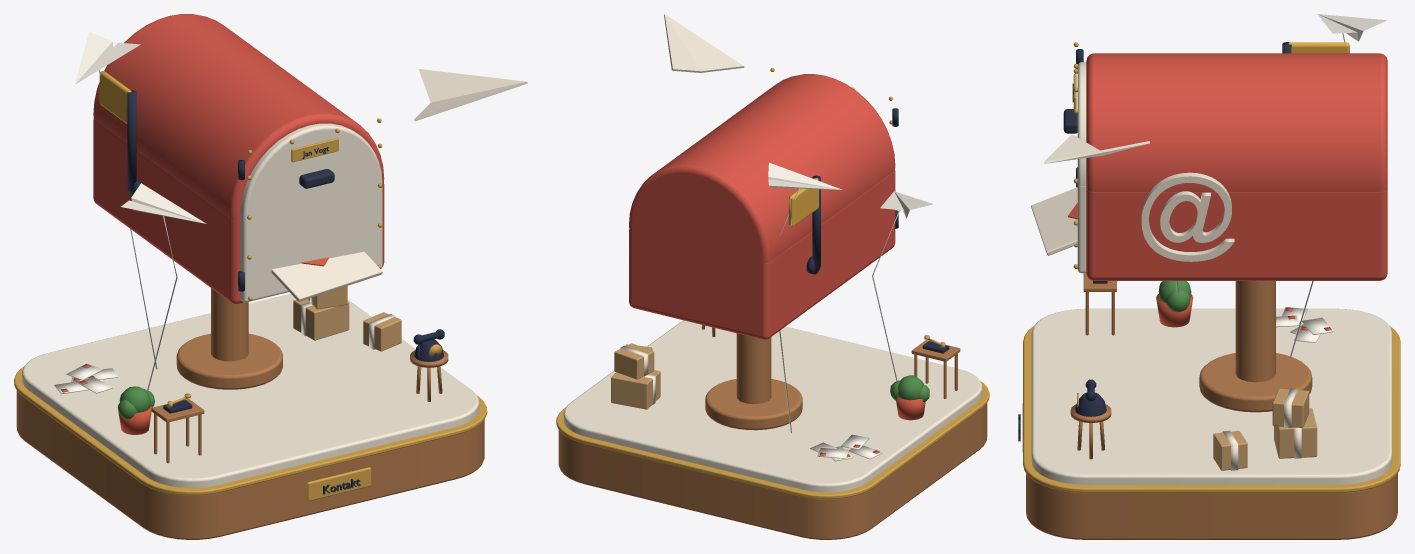
File: contact.glb
The picture shows the model from 3 angles, left to right: view 1: azimuth 30°, elevation 25°; view 2: azimuth 150°, elevation 25°; view 3: azimuth 270°, elevation 25°; orthographic projection. The views are drawn at different scales.
Parts seen in each view (by area): view 1: Contact_Deck, Contact_Box, Contact, Contact_Door, Contact_Post, Contact_Trim, Contact_Letter, Contact_Plane, Contact_XParcel0, Contact_XPlane1, Contact_XPlane0, Contact_Plaque (+10 smaller); view 2: Contact_Box, Contact_Deck, Contact, Contact_Post, Contact_Trim, Contact_Plane, Contact_XParcel0, Contact_XParcel1, Contact_XPlane1, Contact_XLetters, Contact_Table, Contact_FlagSign (+4 smaller); view 3: Contact_Box, Contact_Deck, Contact, Contact_Post, Contact_Trim, Contact_At, Contact_Letter, Contact_Door, Contact_XParcel0, Contact_Plane, Contact_XParcel1, Contact_XLetters (+8 smaller).
Boxes of the visible parts, x1=… form: Contact_Deck: x1=22, y1=294, x2=479, y2=487; Contact_Box: x1=93, y1=14, x2=384, y2=303; Contact: x1=16, y1=390, x2=484, y2=539; Contact_Door: x1=240, y1=123, x2=382, y2=302; Contact_Post: x1=176, y1=288, x2=282, y2=389; Contact_Trim: x1=14, y1=367, x2=487, y2=495; Contact_Letter: x1=271, y1=251, x2=382, y2=301; Contact_Plane: x1=414, y1=69, x2=527, y2=121; Contact_XParcel0: x1=293, y1=299, x2=349, y2=340; Contact_XPlane1: x1=74, y1=32, x2=140, y2=84; Contact_XPlane0: x1=121, y1=183, x2=206, y2=223; Contact_Plaque: x1=307, y1=467, x2=371, y2=501; Contact_Box: x1=629, y1=74, x2=895, y2=339; Contact_Deck: x1=563, y1=320, x2=982, y2=492; Contact: x1=558, y1=403, x2=987, y2=539; Contact_Post: x1=705, y1=333, x2=802, y2=430; Contact_Trim: x1=556, y1=381, x2=989, y2=499; Contact_Plane: x1=664, y1=14, x2=744, y2=72; Contact_XParcel0: x1=611, y1=370, x2=660, y2=409; Contact_XParcel1: x1=614, y1=343, x2=654, y2=379; Contact_XPlane1: x1=768, y1=162, x2=842, y2=189; Contact_XLetters: x1=810, y1=434, x2=882, y2=461; Contact_Table: x1=911, y1=340, x2=960, y2=398; Contact_FlagSign: x1=788, y1=178, x2=818, y2=226; Contact_Box: x1=1086, y1=53, x2=1387, y2=280; Contact_Deck: x1=1031, y1=308, x2=1392, y2=484; Contact: x1=1026, y1=473, x2=1397, y2=539; Contact_Post: x1=1199, y1=281, x2=1312, y2=412; Contact_Trim: x1=1023, y1=326, x2=1400, y2=492; Contact_At: x1=1141, y1=172, x2=1234, y2=261; Contact_Letter: x1=1031, y1=187, x2=1077, y2=255; Contact_Door: x1=1077, y1=62, x2=1086, y2=273; Contact_XParcel0: x1=1274, y1=408, x2=1317, y2=458; Contact_Plane: x1=1044, y1=134, x2=1149, y2=163; Contact_XParcel1: x1=1272, y1=388, x2=1309, y2=427; Contact_XLetters: x1=1276, y1=307, x2=1334, y2=342.
Bounding box in the file's own units: 4.84 × 4.69 × 4.11.
